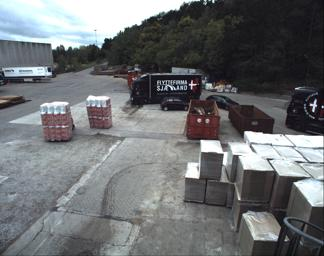rockwool_batts: (38, 100, 72, 139), (85, 94, 112, 128)
